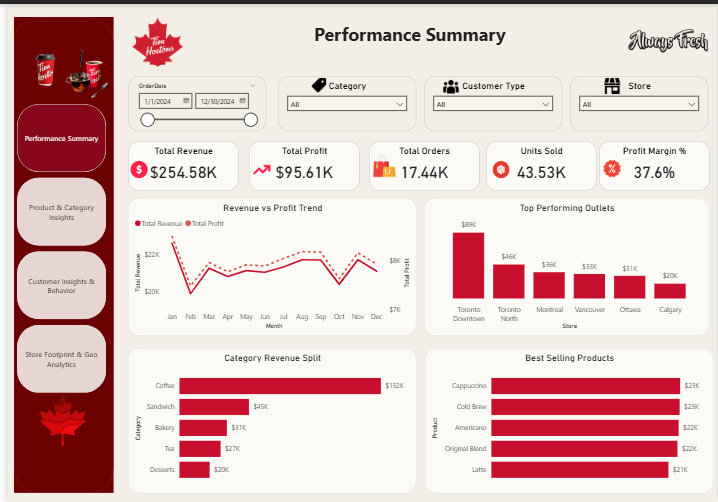

What the dashboard file says about the page in this screenshot:
{"tool":"powerbi","page":{"name":"Performance Summary","canvas":[1280,900],"ordinal":0},"visuals":[{"type":"shape","box":[10,24.3,180,860],"z":0},{"type":"image","box":[206.7,24.6,128.7,88.2],"z":1000},{"type":"image","box":[1118.6,20,148.6,92.9],"z":2000},{"type":"image","box":[10,67.1,114.3,108.6],"z":3000},{"type":"image","box":[16,47.9,174.2,165.5],"z":4000},{"type":"image","box":[47.1,680,104.3,145.7],"z":5000},{"type":"textbox","box":[360,27.5,733,68],"z":6000},{"type":"slicer","fields":{"Values":["DimDate.OrderDate"]},"box":[216.9,130.1,250.1,100],"z":7000},{"type":"slicer","title":"Category","fields":{"Values":["DimProduct.Category"]},"box":[488.7,130.1,250,100],"z":8000},{"type":"image","box":[534.9,134.5,53.5,26],"z":9000},{"type":"slicer","title":"Customer Type","fields":{"Values":["FactSales.CustomerType"]},"box":[751.8,130.1,250,100],"z":10000},{"type":"slicer","title":"Store","fields":{"Values":["DimStore.Store"]},"box":[1014.9,130.1,250,100],"z":11000},{"type":"image","box":[1074.2,134.5,36.1,28.9],"z":12000},{"type":"card","title":"Total Revenue","fields":{"Values":["_Measures.Total Revenue"]},"box":[216.9,247.2,199.5,89.6],"z":13000},{"type":"card","title":"Total Profit","fields":{"Values":["_Measures.Total Profit"]},"box":[435.2,247.2,199.5,89.6],"z":14000},{"type":"image","box":[220,284.6,32.3,30.8],"z":15000},{"type":"image","box":[436.9,284.6,43.1,30.8],"z":16000},{"type":"card","title":"Total Orders","fields":{"Values":["_Measures.Total Orders"]},"box":[652,247.2,199.5,89.6],"z":17000},{"type":"image","box":[658.5,270.8,44.6,44.6],"z":18000},{"type":"card","title":"Units Sold","fields":{"Values":["_Measures.Total Units Sold"]},"box":[863.1,247.2,199.5,89.6],"z":19000},{"type":"card","title":"Profit Margin %","fields":{"Values":["_Measures.Profit Margin %"]},"box":[1068.4,247.2,199.5,89.6],"z":20000},{"type":"image","box":[1075.4,281.5,32.3,30.8],"z":21000},{"type":"lineChart","title":"Revenue vs Profit Trend","fields":{"Category":["DimDate.Month"],"Y":["_Measures.Total Revenue"],"Y2":["_Measures.Total Profit"]},"box":[217.1,350,521.4,248.6],"z":22000},{"type":"clusteredColumnChart","title":"Top Performing Outlets","fields":{"Category":["DimStore.Store"],"Y":["_Measures.Total Revenue"]},"box":[751.4,350,515.7,248.6],"z":23000},{"type":"clusteredBarChart","title":"Category Revenue Split","fields":{"Category":["DimProduct.Category"],"Y":["_Measures.Total Revenue"]},"box":[217.1,621.4,521.4,262.9],"z":24000},{"type":"clusteredBarChart","title":"Best Selling Products","fields":{"Category":["DimProduct.Product"],"Y":["_Measures.Total Revenue"]},"box":[752.9,621.4,521.4,262.9],"z":25000},{"type":"image","box":[870.8,284.6,40,30.8],"z":26000},{"type":"image","box":[783.1,135.4,35.4,27.7],"z":27000},{"type":"pageNavigator","box":[16.7,180,161.7,523.3],"z":28000}]}

Visuals, with their boxes in screenshot pixels (x1, y1, x2, y2), scaled from the page's 1280x900 canvas onto the 718x502 screenshot:
shape: 6, 14, 107, 493
image: 116, 14, 188, 63
image: 627, 11, 711, 63
image: 6, 37, 70, 98
image: 9, 27, 107, 119
image: 26, 379, 85, 461
textbox: 202, 15, 613, 53
slicer - DimDate.OrderDate: 122, 73, 262, 128
"Category" slicer: 274, 73, 414, 128
image: 300, 75, 330, 90
"Customer Type" slicer: 422, 73, 562, 128
"Store" slicer: 569, 73, 710, 128
image: 603, 75, 623, 91
"Total Revenue" card: 122, 138, 234, 188
"Total Profit" card: 244, 138, 356, 188
image: 123, 159, 142, 176
image: 245, 159, 269, 176
"Total Orders" card: 366, 138, 478, 188
image: 369, 151, 394, 176
"Units Sold" card: 484, 138, 596, 188
"Profit Margin %" card: 599, 138, 711, 188
image: 603, 157, 621, 174
"Revenue vs Profit Trend" lineChart: 122, 195, 414, 334
"Top Performing Outlets" clusteredColumnChart: 421, 195, 711, 334
"Category Revenue Split" clusteredBarChart: 122, 347, 414, 493
"Best Selling Products" clusteredBarChart: 422, 347, 715, 493
image: 488, 159, 511, 176
image: 439, 76, 459, 91
pageNavigator: 9, 100, 100, 392
